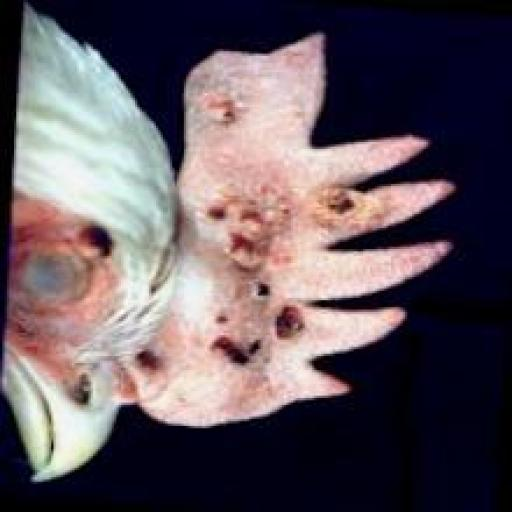disease: (12, 190, 134, 336), (206, 175, 292, 298), (193, 291, 324, 368), (319, 172, 370, 224), (196, 89, 242, 129)
